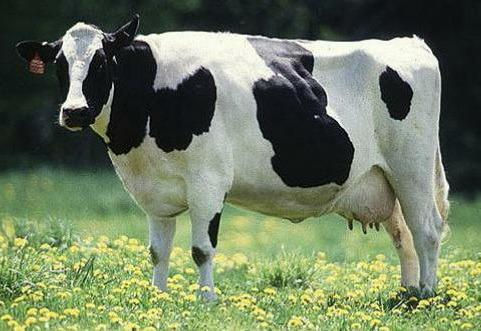cow: (16, 14, 448, 295)
